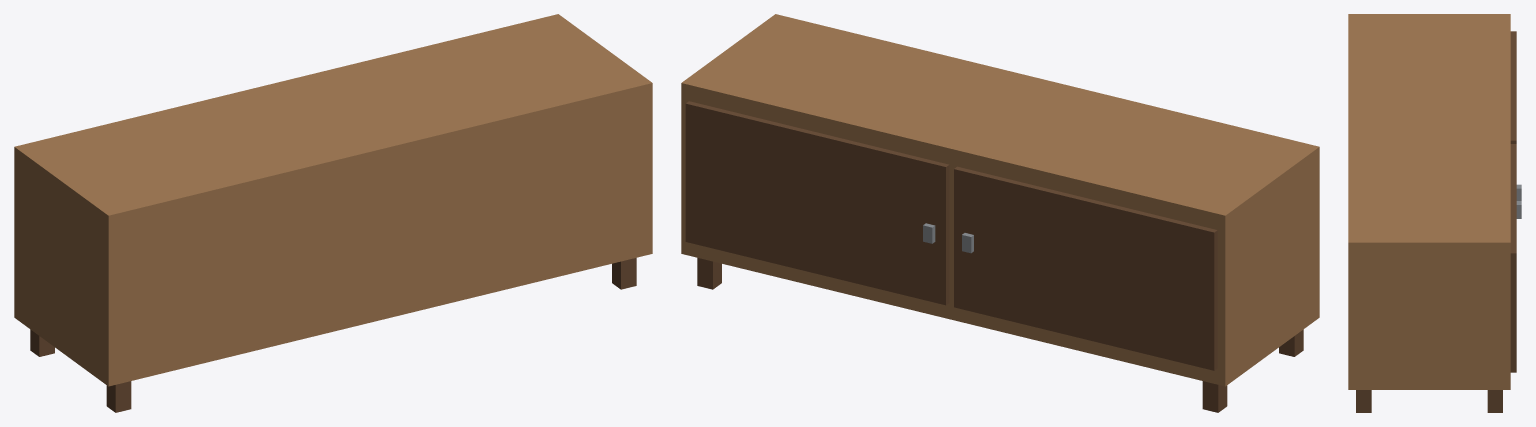
The model's file is MuebleTele.fbx.
3 renders of one model, left to right at view 1: azimuth 30°, elevation 25°; view 2: azimuth 150°, elevation 25°; view 3: azimuth 270°, elevation 25°, orthographic. The views are drawn at different scales.
Visible parts, largest first — view 1: Deco_Mueble_TV; view 2: Deco_Mueble_TV; view 3: Deco_Mueble_TV.
Part boxes in pixels (box(x1,y1,x2,y2)): Deco_Mueble_TV: box(14, 14, 652, 412); Deco_Mueble_TV: box(681, 14, 1319, 412); Deco_Mueble_TV: box(1348, 14, 1521, 412).
Bounding box in the file's own units: 1.4 × 0.5 × 0.448.
